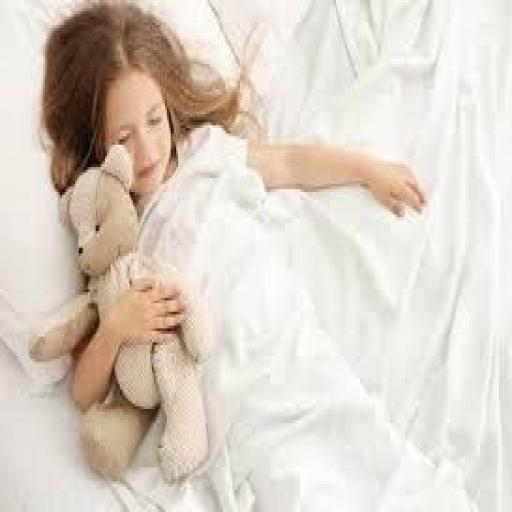sleeping: (34, 0, 429, 490)
